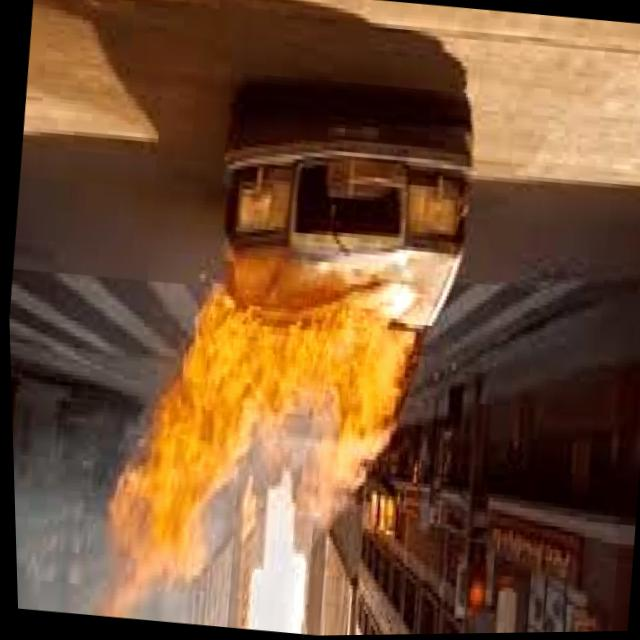Fire: (92, 254, 421, 598)
Smoke: (11, 474, 128, 619)
